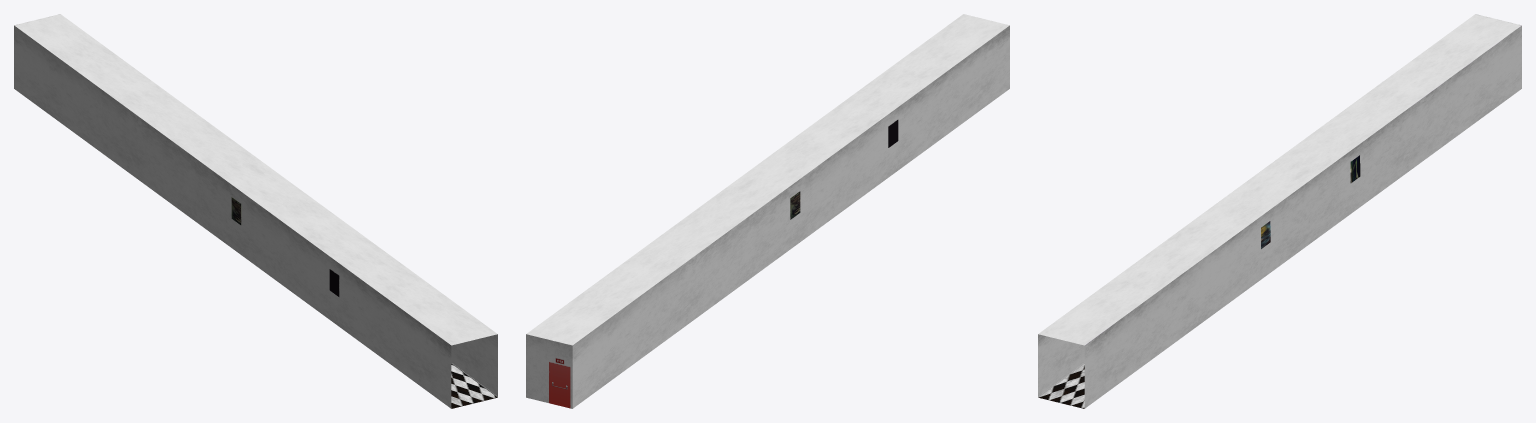
The model's file is delusionalHallway.gltf.
3 views of the same model, side by side, from view 1: azimuth 30°, elevation 25°; view 2: azimuth 150°, elevation 25°; view 3: azimuth 330°, elevation 25° (orthographic).
Parts seen in each view (by area): view 1: object 6, BodenUndDecke; view 2: object 6, BodenUndDecke; view 3: object 6, BodenUndDecke.
Part boxes in pixels (x1=…): object 6: x1=14, y1=25, x2=497, y2=408; BodenUndDecke: x1=14, y1=14, x2=497, y2=408; object 6: x1=526, y1=25, x2=1009, y2=408; BodenUndDecke: x1=526, y1=14, x2=1009, y2=345; object 6: x1=1038, y1=25, x2=1521, y2=408; BodenUndDecke: x1=1038, y1=14, x2=1521, y2=408.
Bounding box in the file's own units: 2.34 × 3.01 × 37.5.
Materials: 15 (11 with a texture image).
